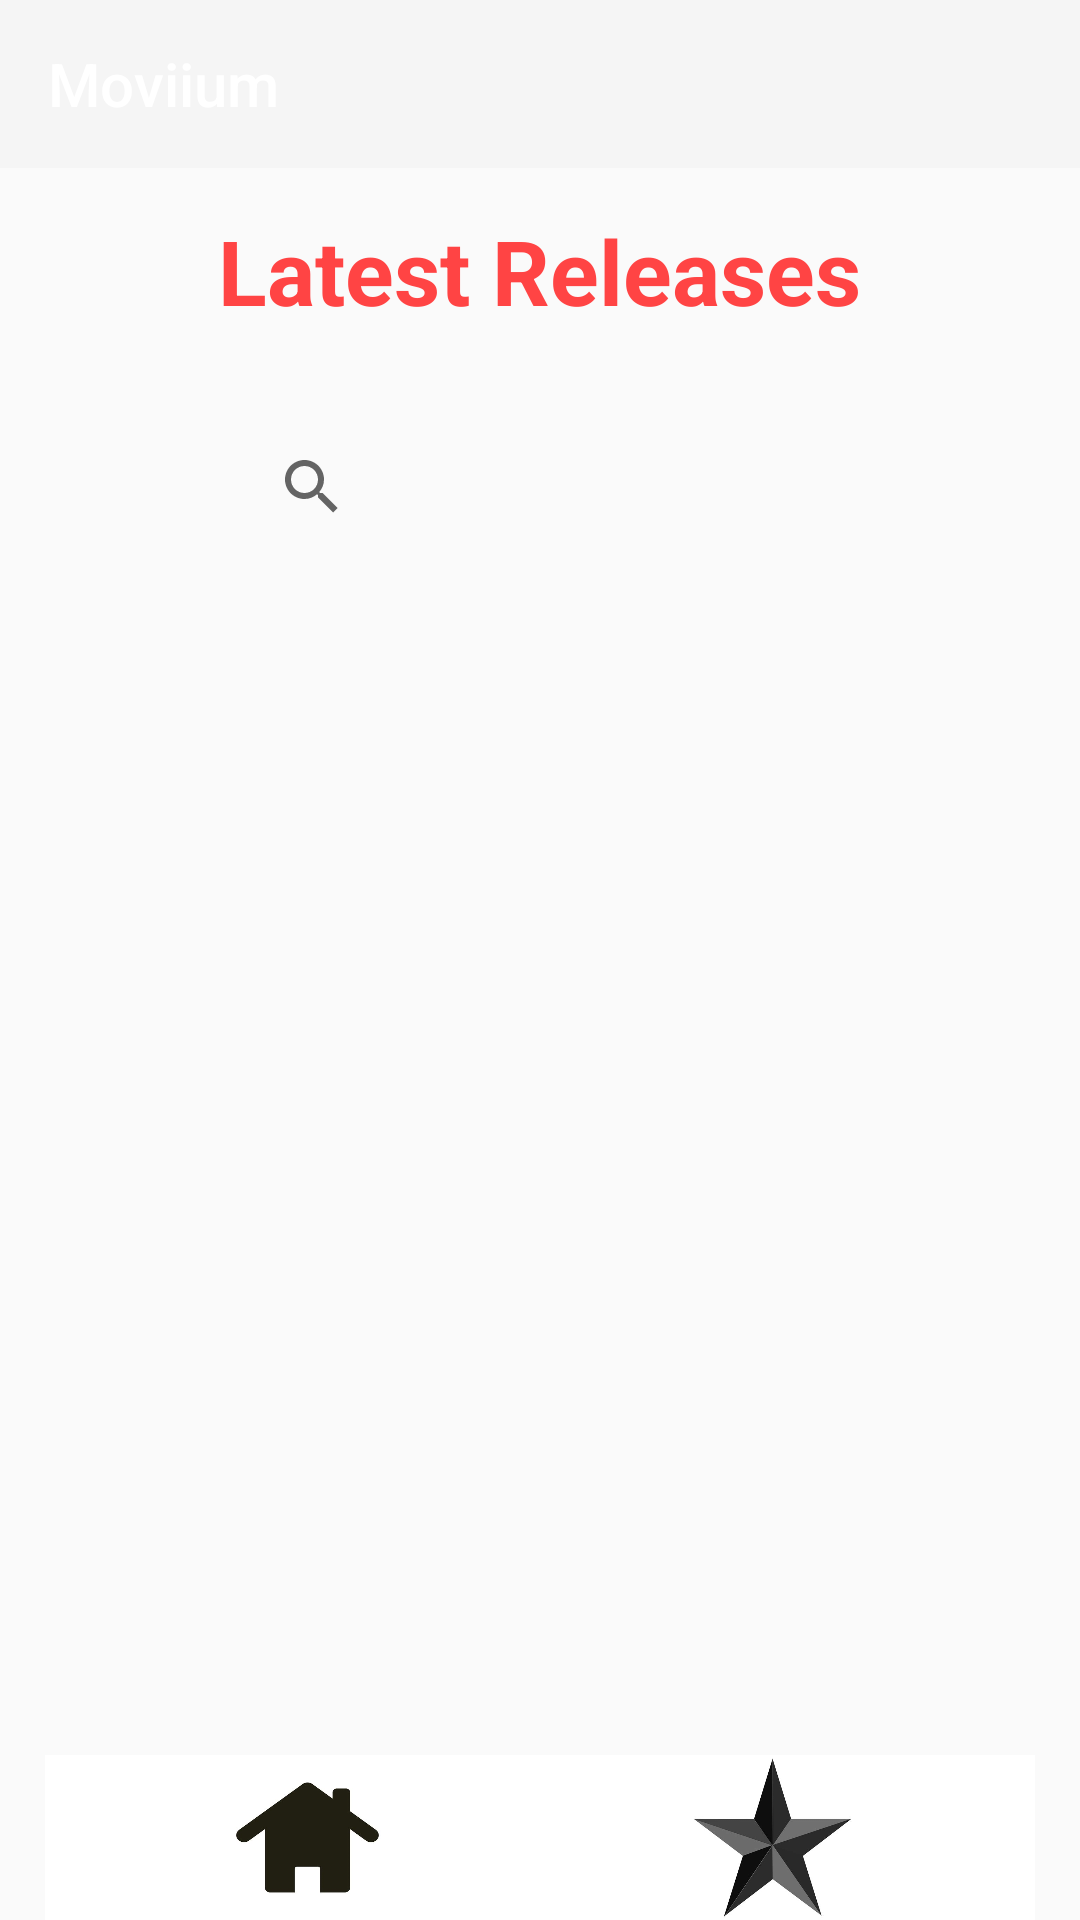

Icon click points for this 1080x1920 phone screenshot, format (x,y):
home: (307,1837)
star: (772,1838)
